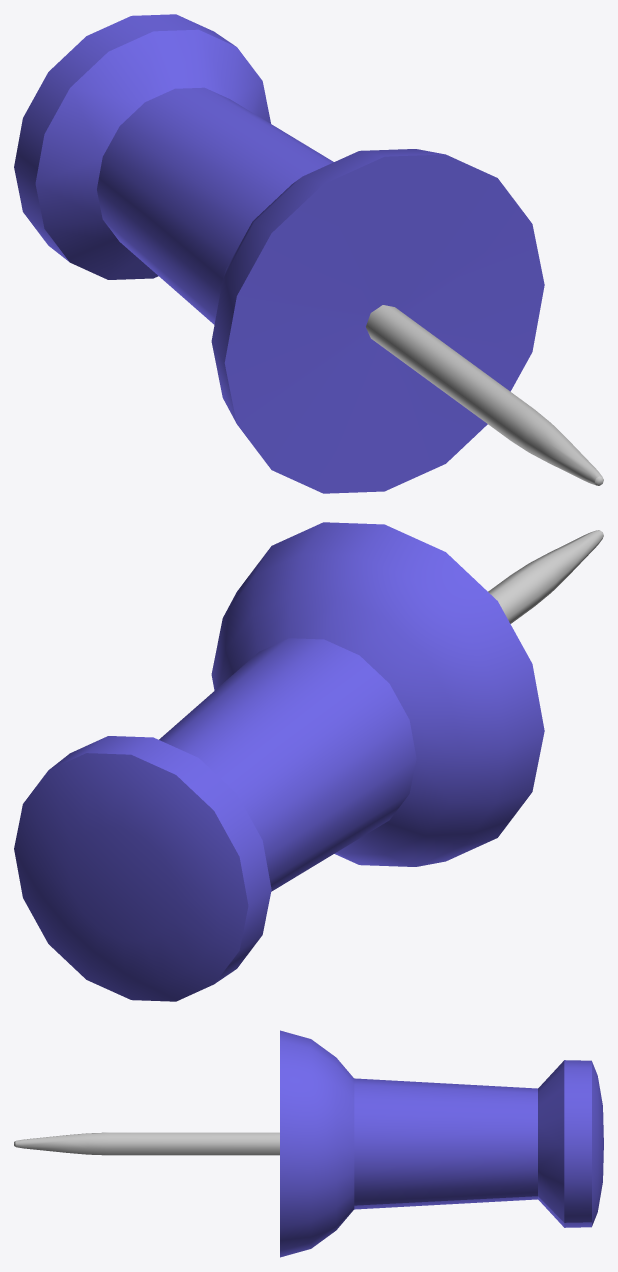
File: 파랑압정.fbx
The picture shows the model from 3 angles, top to bottom: view 1: azimuth 30°, elevation 25°; view 2: azimuth 150°, elevation 25°; view 3: azimuth 270°, elevation 25°; orthographic projection. The views are drawn at different scales.
Visible parts, largest first — view 1: pin_plastic; view 2: pin_plastic; view 3: pin_plastic.
Part boxes in pixels (<box>): pin_plastic: <box>14,14,603,493</box>; pin_plastic: <box>14,522,603,1001</box>; pin_plastic: <box>14,1030,603,1257</box>.
Size of the model in its own units: 92.73 by 92.73 by 241.
